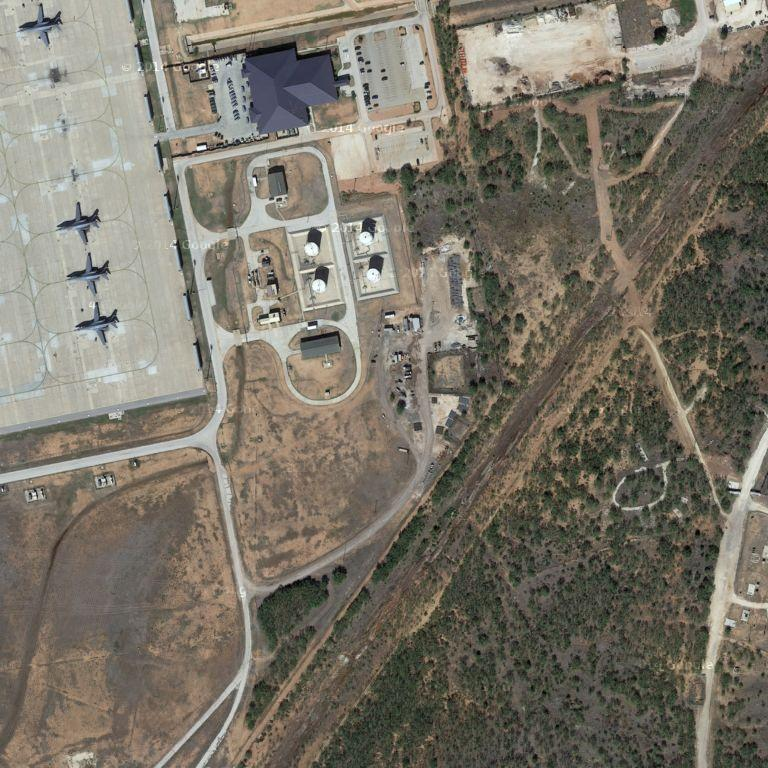B-1B: (17, 3, 71, 50), (69, 303, 124, 349), (52, 201, 106, 247), (62, 252, 117, 297)
